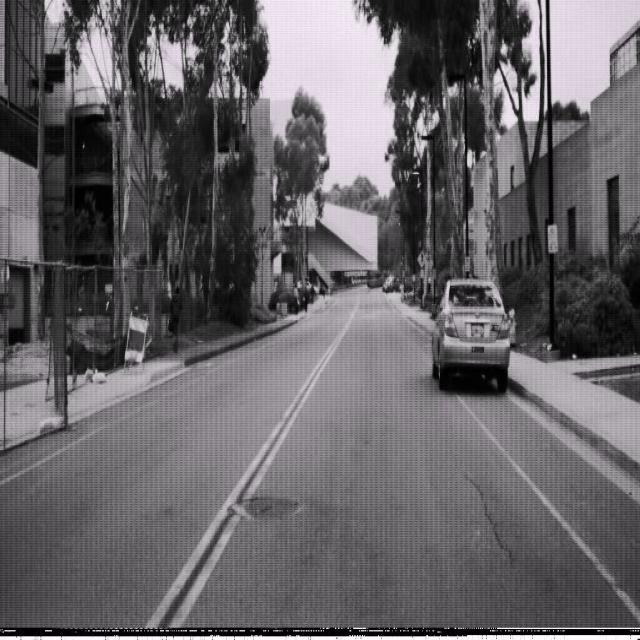pedestrianCrossing: (416, 248, 427, 268)
